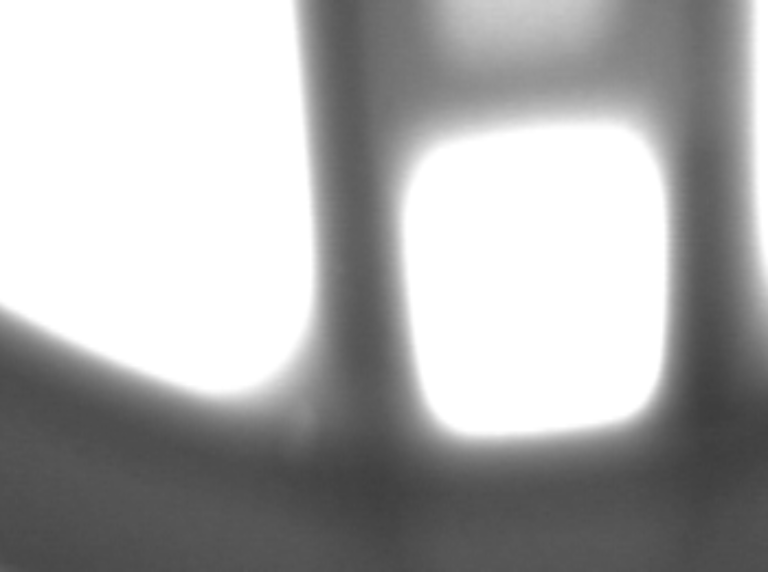defect: (292, 413, 327, 458)
